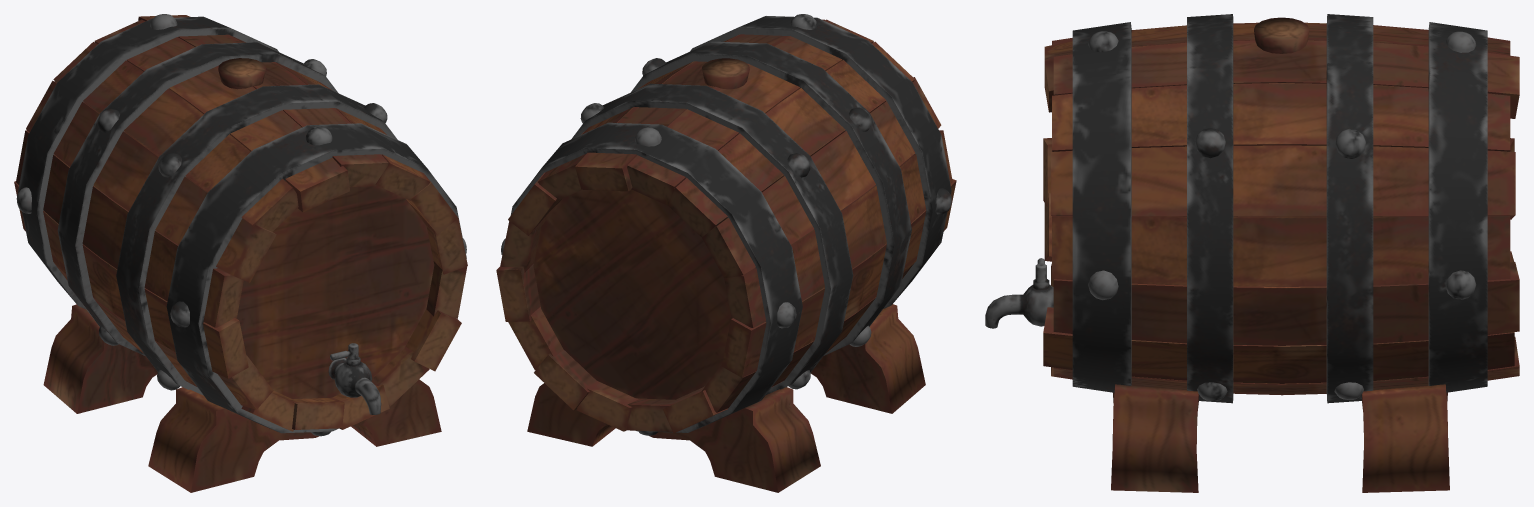
The model's file is barrel.glb.
The picture shows the model from 3 angles, left to right: view 1: azimuth 30°, elevation 25°; view 2: azimuth 150°, elevation 25°; view 3: azimuth 270°, elevation 25°; orthographic projection. The views are drawn at different scales.
Parts seen in each view (by area): view 1: Object_2; view 2: Object_2; view 3: Object_2.
Boxes of the visible parts, x1,y1,x2,y2 form: Object_2: [14, 14, 467, 492]; Object_2: [496, 14, 956, 492]; Object_2: [985, 14, 1519, 492].
Bounding box in the file's own units: 5.46 × 6.06 × 7.5.
Materials: 1 (1 with a texture image).
